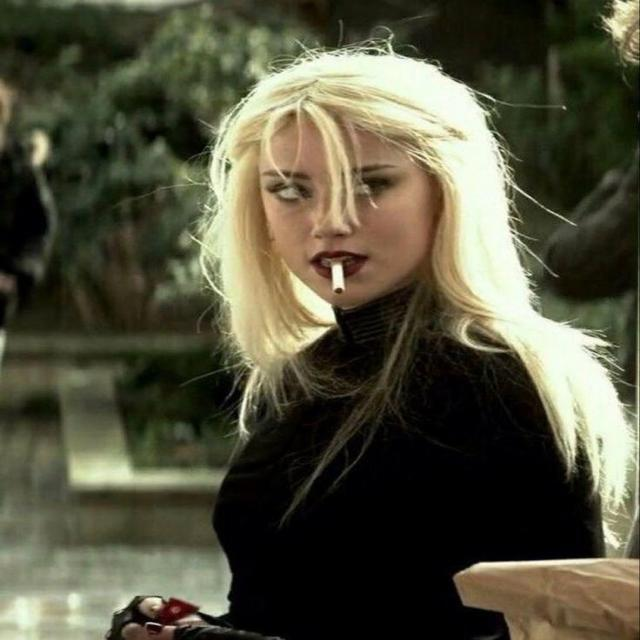cigarette: (327, 252, 369, 321)
